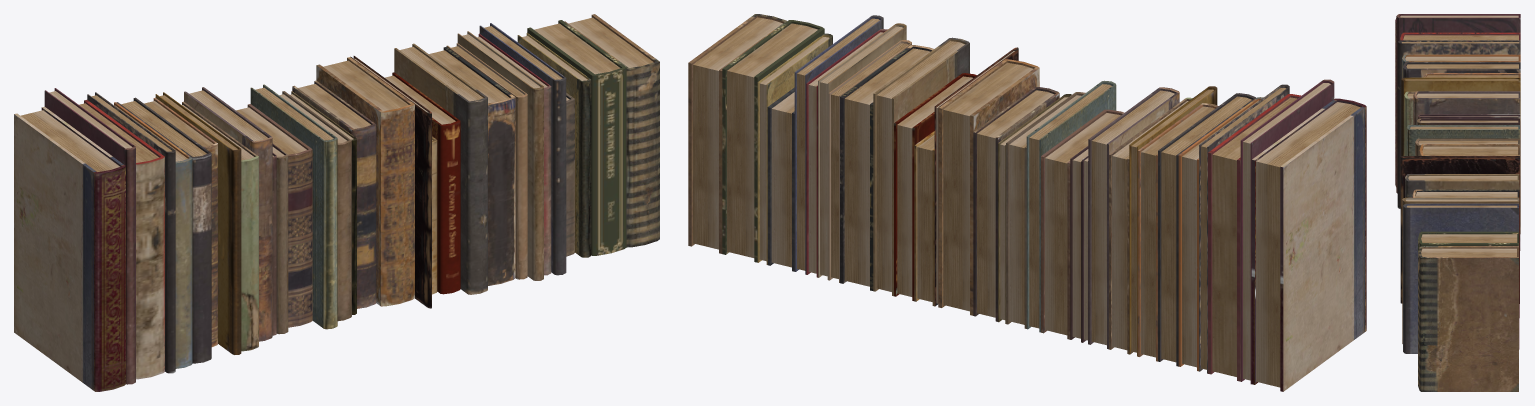
The model's file is SM_Book_Old.009.fbx.
The picture shows the model from 3 angles, left to right: view 1: azimuth 30°, elevation 25°; view 2: azimuth 150°, elevation 25°; view 3: azimuth 270°, elevation 25°; orthographic projection. The views are drawn at different scales.
Parts seen in each view (by area): view 1: SM_Book_Old.009; view 2: SM_Book_Old.009; view 3: SM_Book_Old.009.
Boxes of the visible parts, bbox=[...] form: SM_Book_Old.009: bbox=[14, 14, 659, 391]; SM_Book_Old.009: bbox=[688, 14, 1366, 391]; SM_Book_Old.009: bbox=[1395, 14, 1520, 391].
Size of the model in its own units: 0.9733 by 0.3765 by 0.2424.
